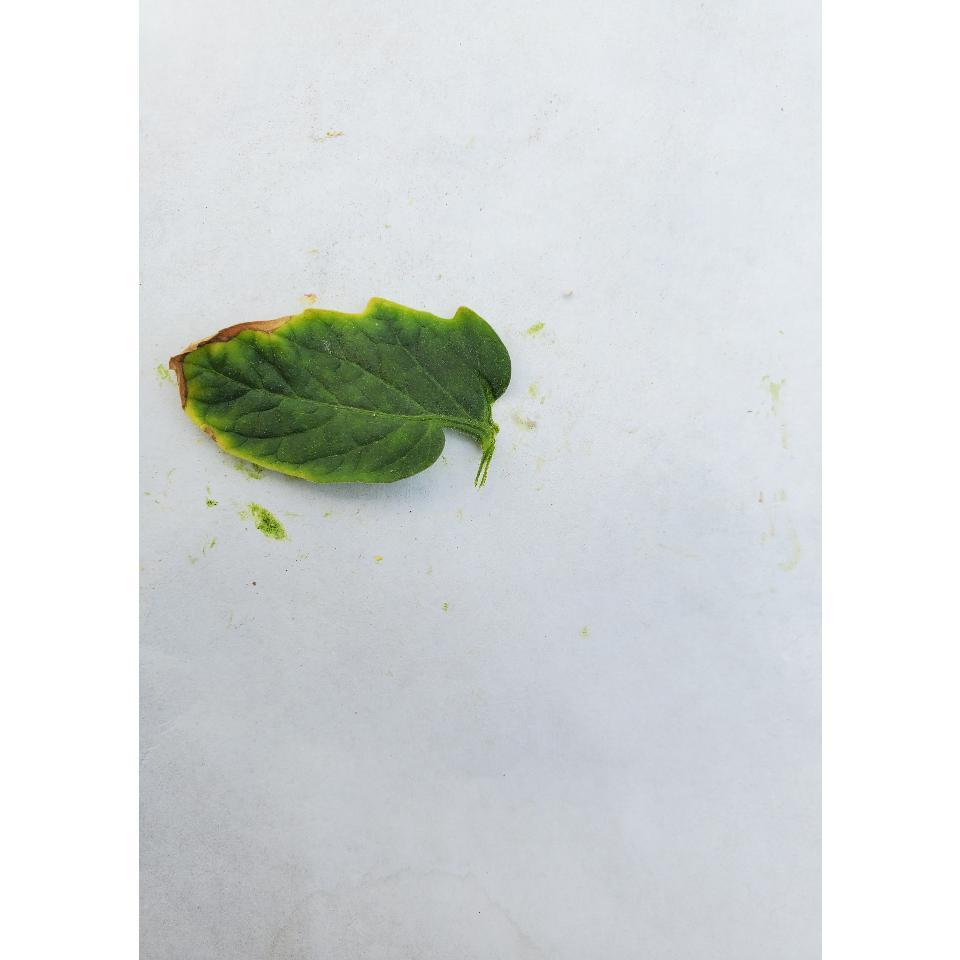tomato_bacterial_blight: (172, 289, 532, 489)
